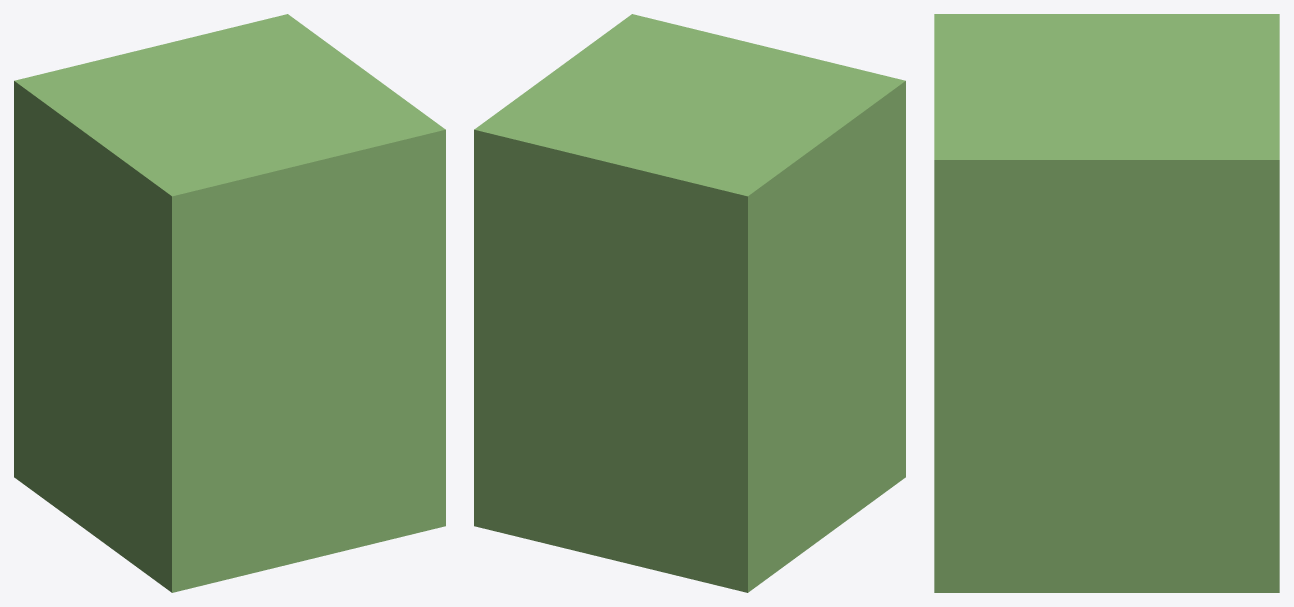
File: dino_coxa.glb
3 views of the same model, side by side, from view 1: azimuth 30°, elevation 25°; view 2: azimuth 150°, elevation 25°; view 3: azimuth 270°, elevation 25° (orthographic). The views are drawn at different scales.
Parts seen in each view (by area): view 1: dino_coxa; view 2: dino_coxa; view 3: dino_coxa.
Boxes of the visible parts, x1=… form: dino_coxa: x1=14, y1=14, x2=445, y2=592; dino_coxa: x1=474, y1=14, x2=905, y2=592; dino_coxa: x1=934, y1=14, x2=1279, y2=592.
Bounding box in the file's own units: 0.26 × 0.36 × 0.26.
